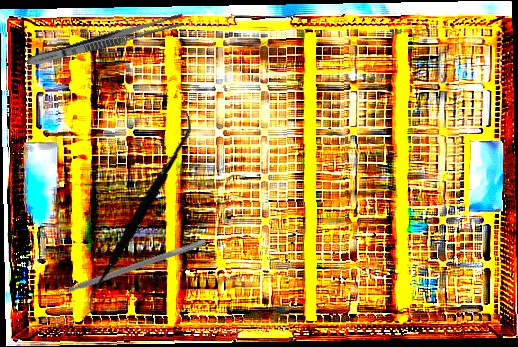Dressing Forceps: (24, 10, 186, 71)
Spatula Surgical: (77, 112, 201, 313), (44, 231, 207, 303)
